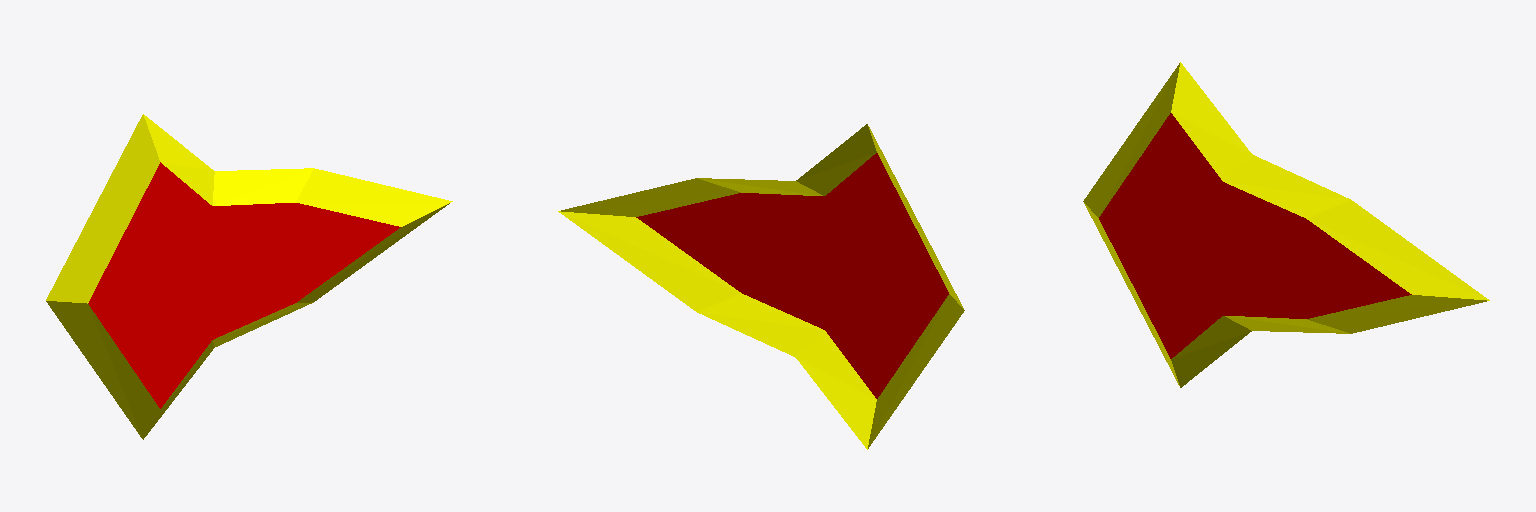
The model's file is ENEMY2.obj.
The picture shows the model from 3 angles: view 1: azimuth 30°, elevation 25°; view 2: azimuth 150°, elevation 25°; view 3: azimuth 330°, elevation 25°; orthographic projection.
Parts seen in each view (by area): view 1: Cube.001_Cube.002; view 2: Cube.001_Cube.002; view 3: Cube.001_Cube.002.
Boxes of the visible parts, <box> form: Cube.001_Cube.002: <box>46,114,452,439</box>; Cube.001_Cube.002: <box>558,124,964,449</box>; Cube.001_Cube.002: <box>1083,62,1489,387</box>.
Size of the model in its own units: 22.73 by 17.42 by 1.3.